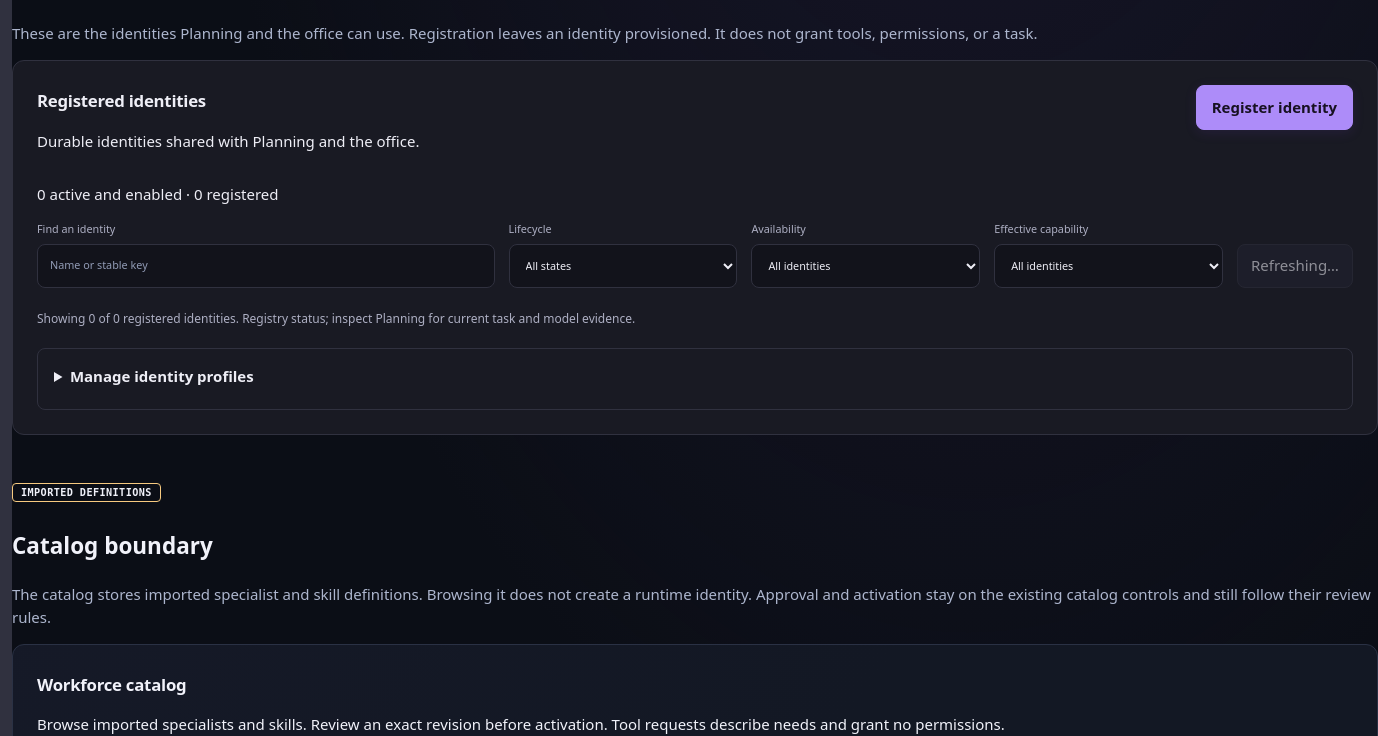
Test: durable workforce › stable-key conflict never edits an unrelated profile
This screenshot has width=1378, height=736.
(page scrolled)
Click the heading "Manage identity profiles".
click(162, 376)  # box top-left (70, 366), bottom-right (254, 386)
(page scrolled)
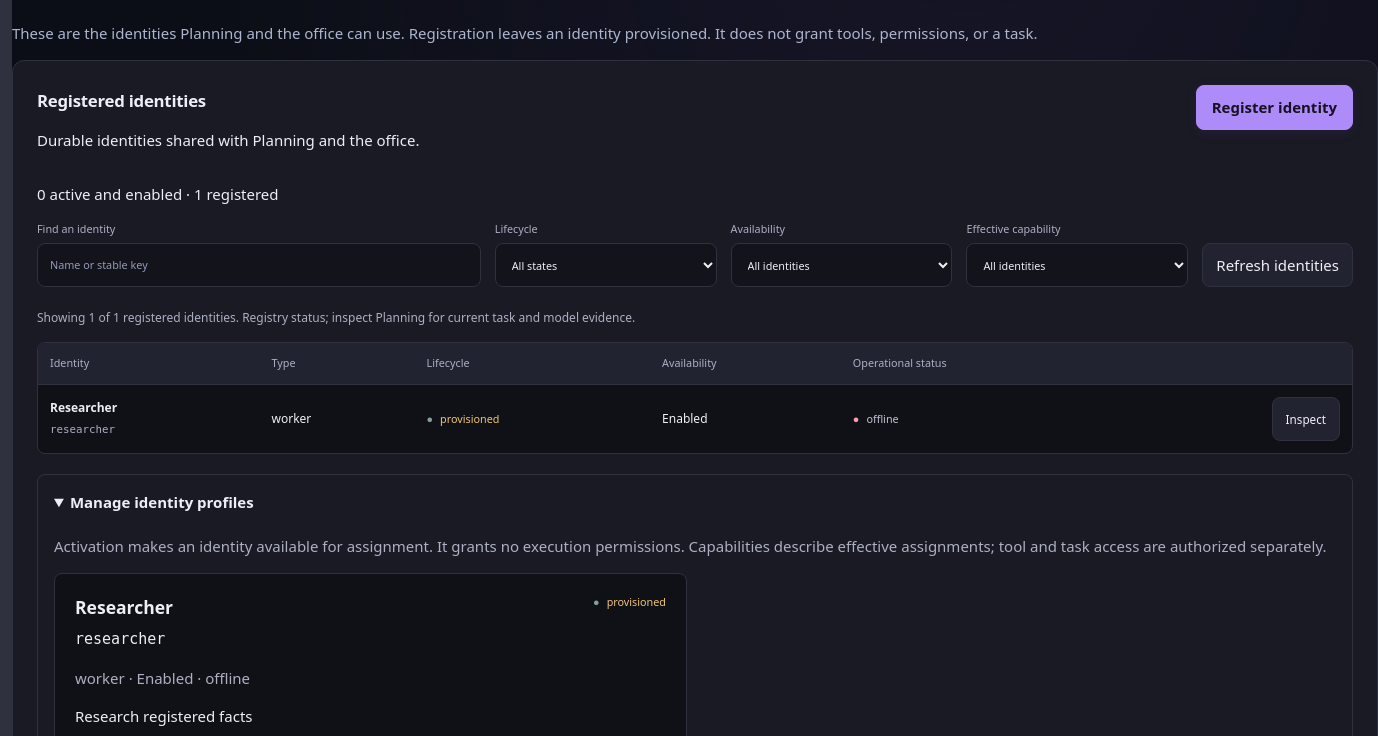
Click the button "Register identity".
click(1274, 108)  # box top-left (1196, 85), bottom-right (1353, 130)
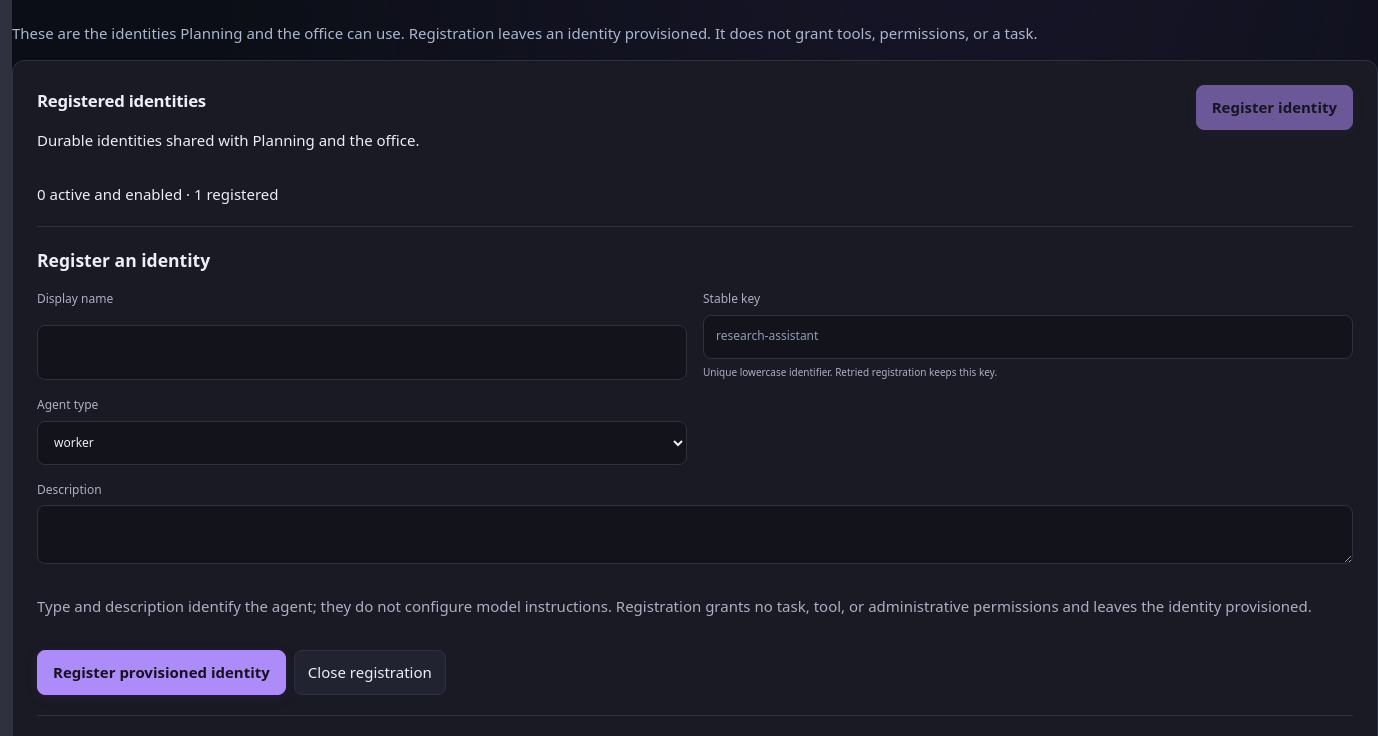
Type "Different profile" into the field labelled "Display name".
click(362, 353); type("Different profile")  # box top-left (37, 325), bottom-right (687, 380)
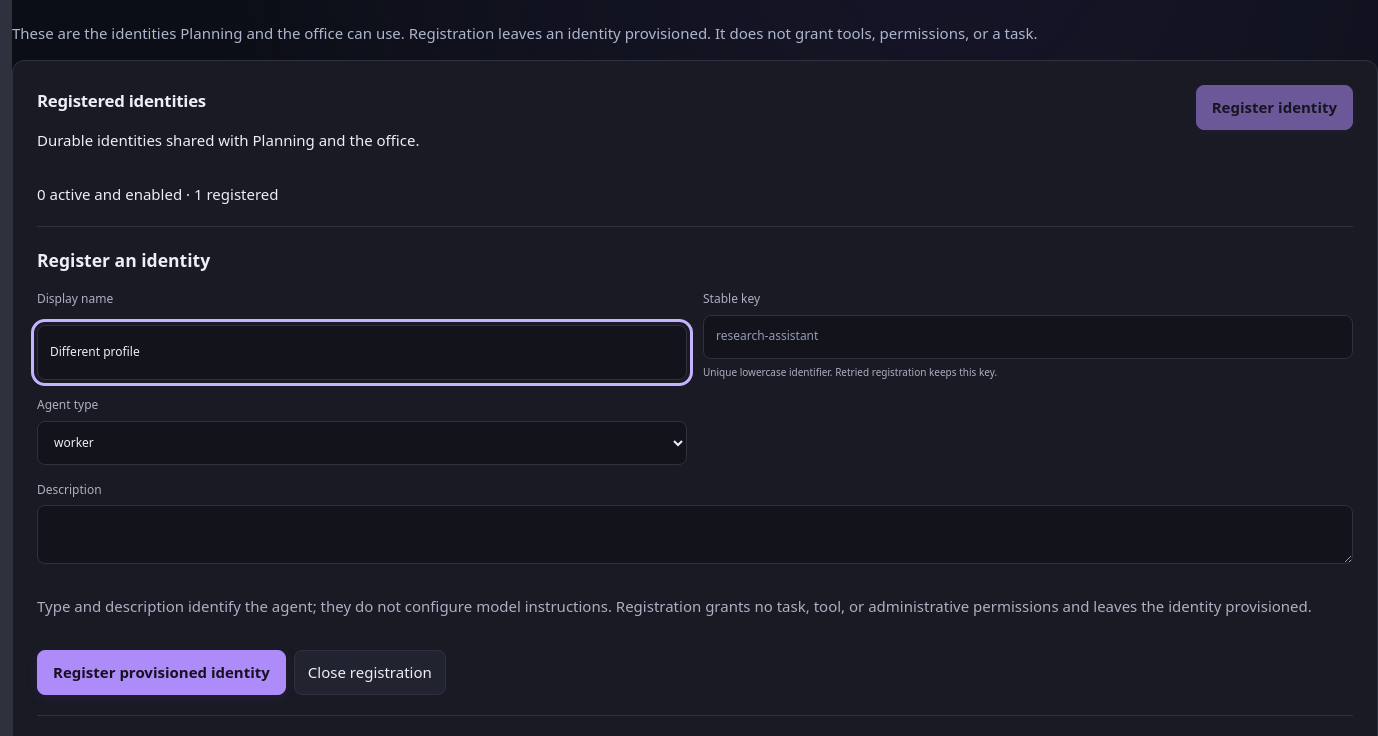
Type "researcher" into the field labelled "Stable key".
click(1028, 336); type("researcher")  # box top-left (703, 314), bottom-right (1353, 358)
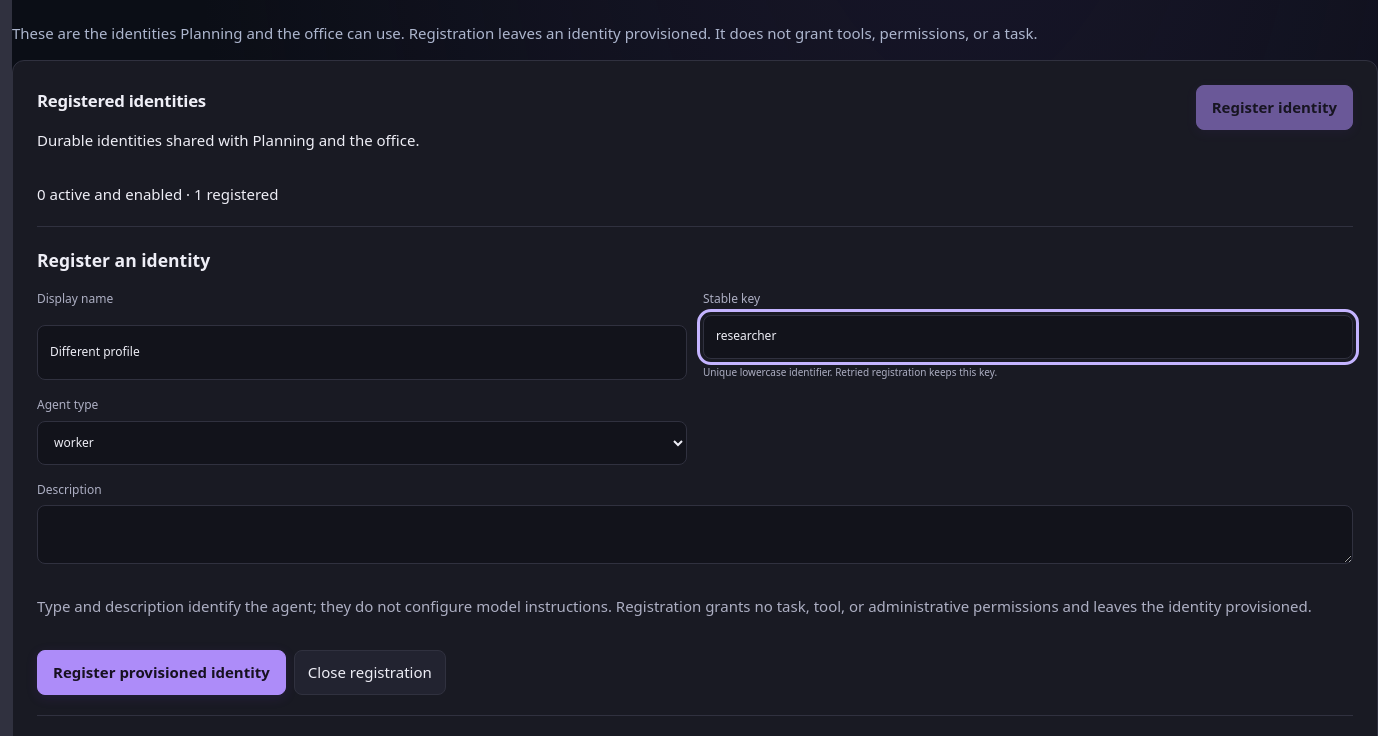
Type "Bounded research" into the text box labelled "Description".
click(695, 535); type("Bounded research")  # box top-left (37, 505), bottom-right (1353, 564)
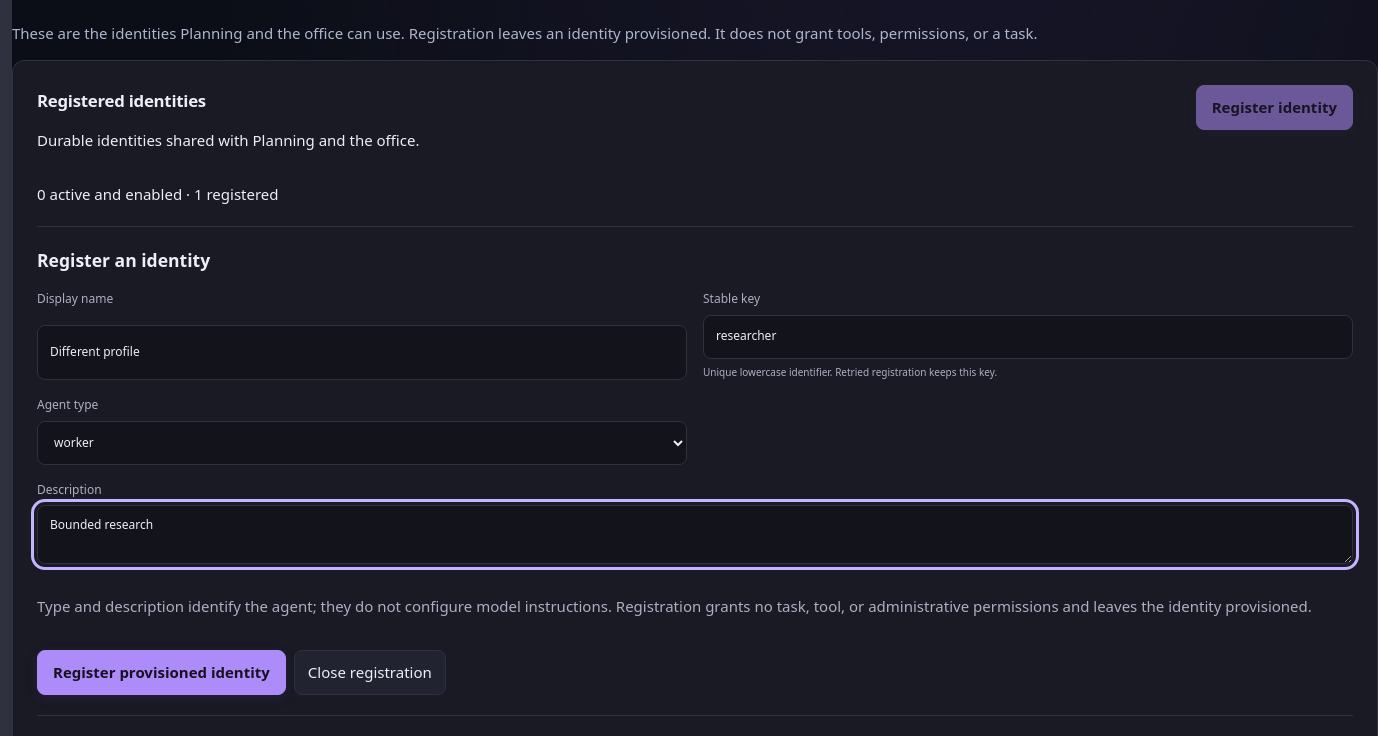
Click the button "Register provisioned identity".
click(161, 672)  # box top-left (37, 650), bottom-right (286, 695)
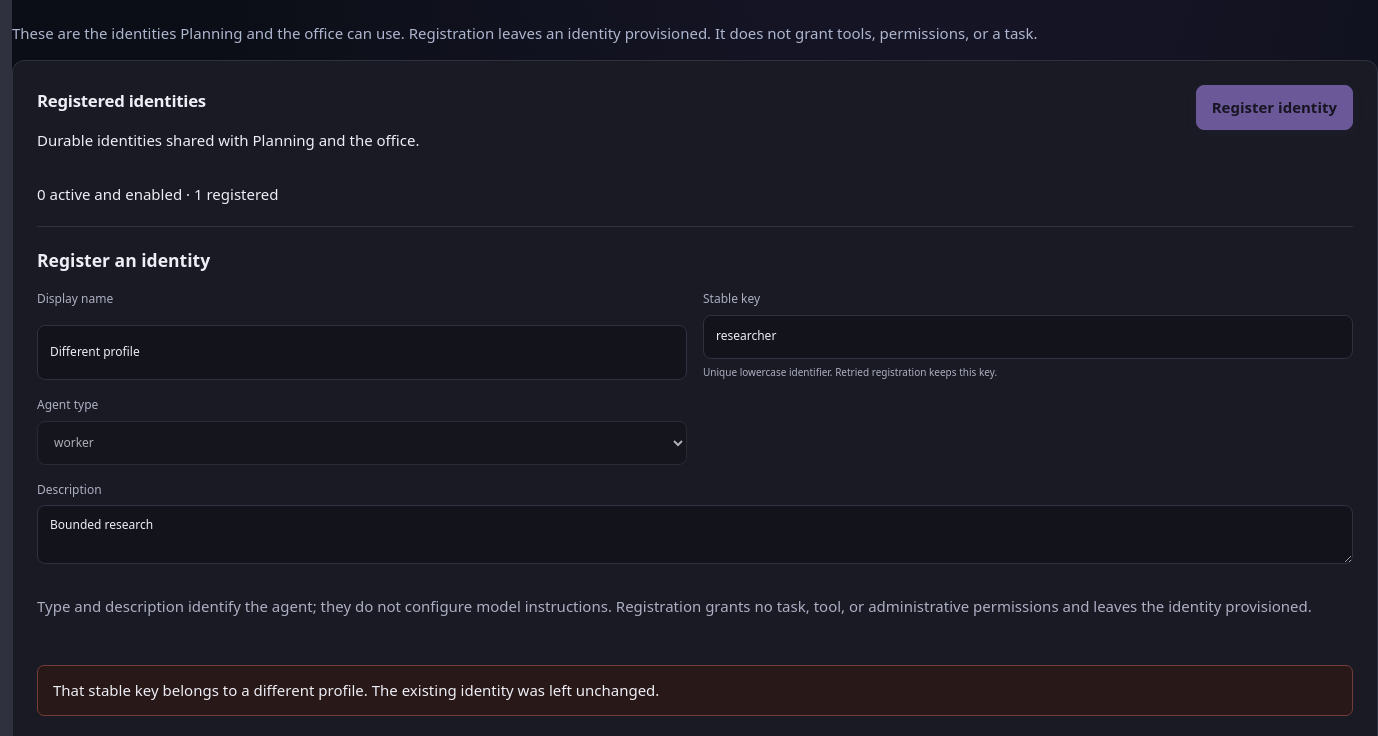
Result: the message shows "belongs to a different profile" at top-left (53, 680), bottom-right (659, 700)
